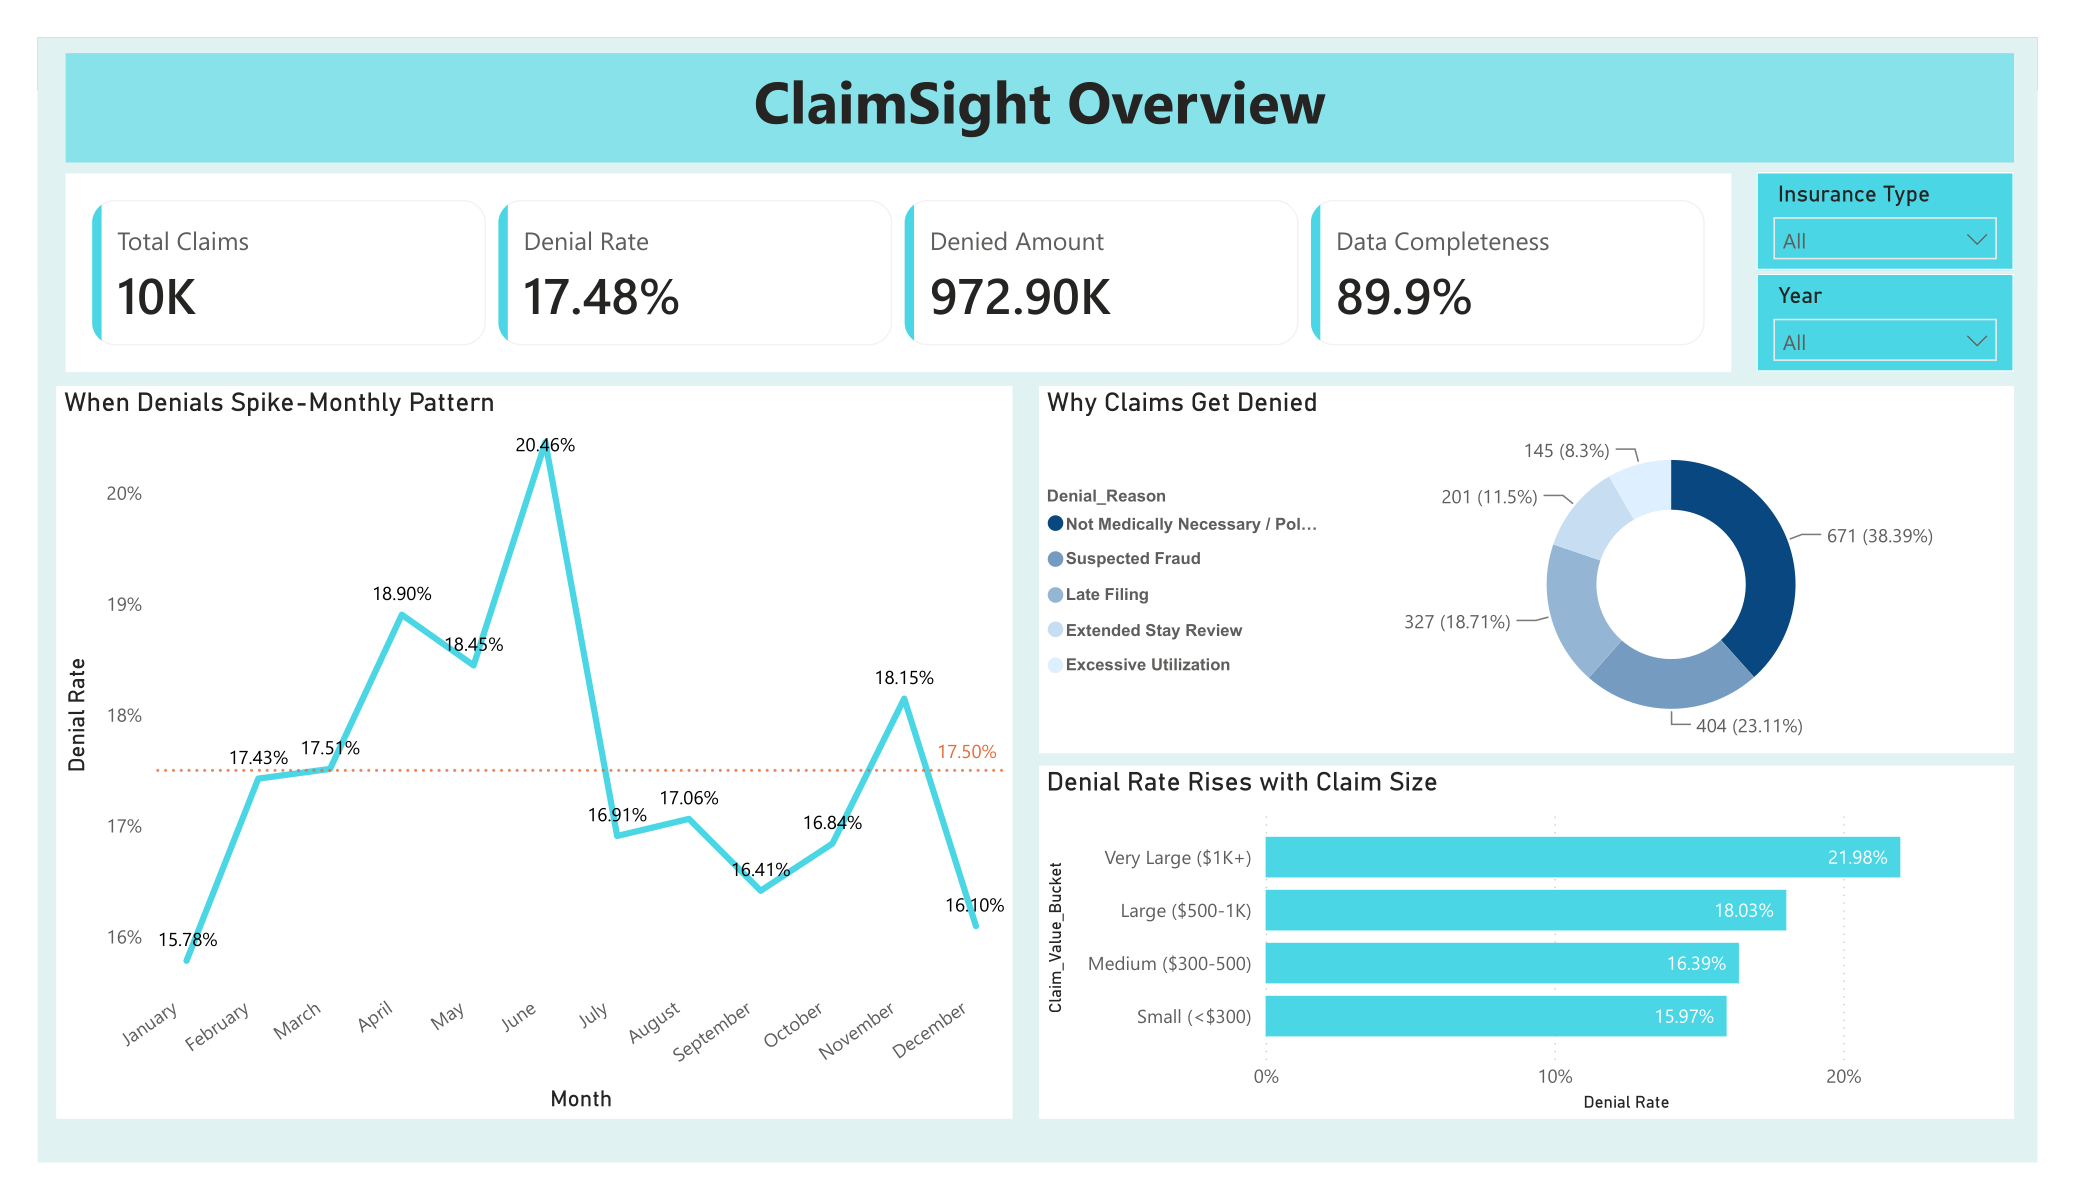

This screenshot's page, from the dashboard's own definition file:
{"tool":"powerbi","page":{"name":"Overview","canvas":[1280,720],"ordinal":0},"visuals":[{"type":"lineChart","title":"When Denials Spike-Monthly Pattern","fields":{"Category":["DateTable.Date.Variation.Date Hierarchy.Month"],"Y":["claims.Denial Rate"]},"box":[11.5,223.4,612.9,468.2],"z":0},{"type":"slicer","fields":{"Values":["claims.Insurance_Type"]},"box":[1100.2,86.2,164.9,62.8],"z":1000},{"type":"slicer","fields":{"Values":["DateTable.Year"]},"box":[1100.2,151.1,164.9,62.8],"z":2000},{"type":"clusteredBarChart","title":"Denial Rate Rises with Claim Size","fields":{"Category":["claims.Claim_Value_Bucket"],"Y":["claims.Denial Rate"]},"box":[640.5,466,624.6,225.6],"z":3000},{"type":"donutChart","title":"Why Claims Get Denied","fields":{"Category":["claims.Denial_Reason"],"Y":["claims.Total Claims"]},"box":[640.5,223.4,624.6,234.1],"z":4000},{"type":"textbox","box":[17.5,9.7,1247.9,70],"z":5000},{"type":"cardVisual","fields":{"Data":["claims.Total Claims","claims.Denial Rate","Sum(claims.Denied_Amount)","claims.Data Completeness"]},"box":[17.5,86.6,1066,127.4],"z":6000}]}

Visuals, with their boxes on the page's 1280x720 design canvas (x1, y1, x2, y2). These are canvas units, not pixel positions in the 2075x1200 screenshot, which may show the page scaled, cropped or inside an application window:
"When Denials Spike-Monthly Pattern" lineChart: x1=12 y1=223 x2=624 y2=692
slicer - claims.Insurance_Type: x1=1100 y1=86 x2=1265 y2=149
slicer - DateTable.Year: x1=1100 y1=151 x2=1265 y2=214
"Denial Rate Rises with Claim Size" clusteredBarChart: x1=640 y1=466 x2=1265 y2=692
"Why Claims Get Denied" donutChart: x1=640 y1=223 x2=1265 y2=458
textbox: x1=18 y1=10 x2=1265 y2=80
cardVisual - claims.Total Claims x claims.Denial Rate: x1=18 y1=87 x2=1084 y2=214
